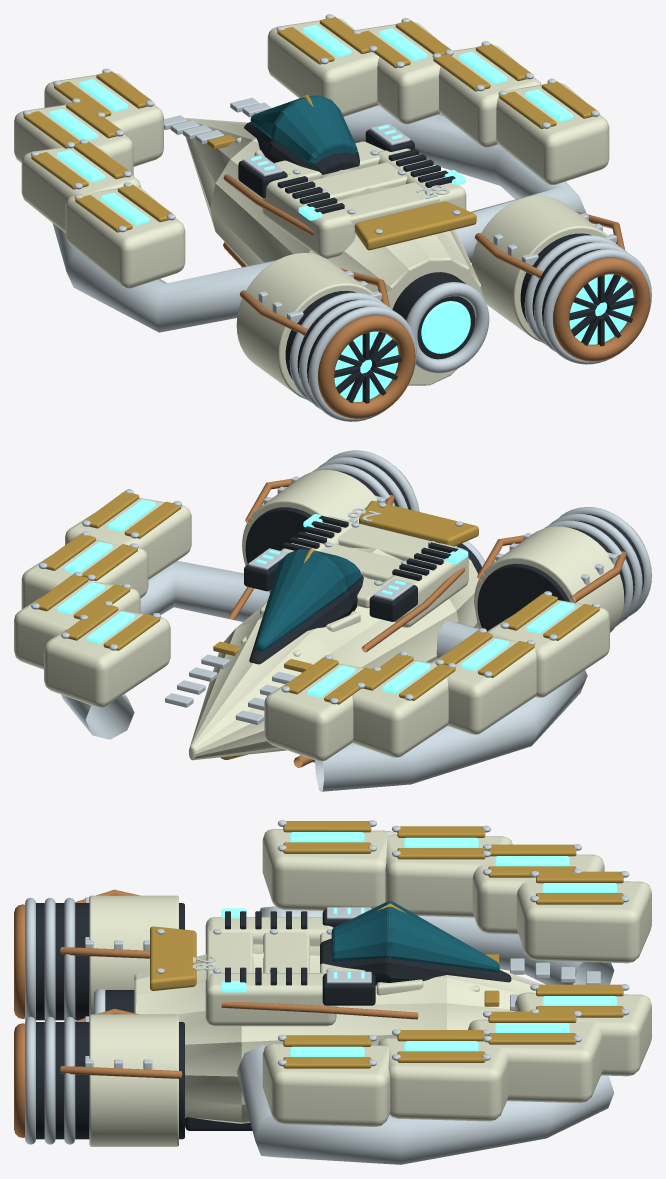
3 renders of one model, top to bottom at view 1: azimuth 30°, elevation 25°; view 2: azimuth 150°, elevation 25°; view 3: azimuth 270°, elevation 25°, orthographic. The views are drawn at different scales.
Visible parts, largest first — view 1: SolidHull_28; view 2: SolidHull_28; view 3: SolidHull_28.
Part boxes in pixels (bbox=[...]): SolidHull_28: bbox=[14, 14, 651, 421]; SolidHull_28: bbox=[14, 450, 651, 791]; SolidHull_28: bbox=[14, 820, 651, 1164].
Bounding box in the file's own units: 3.06 × 1.21 × 3.26.
